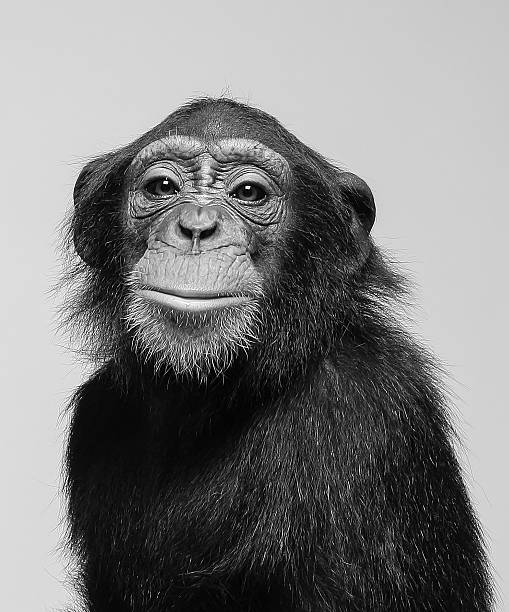chimpanzee: (39, 85, 423, 421)
